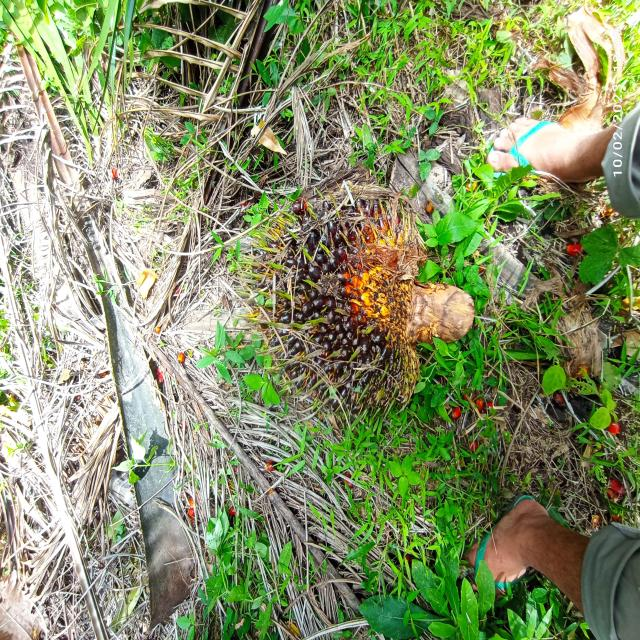fraksi 00: (244, 170, 431, 442)
